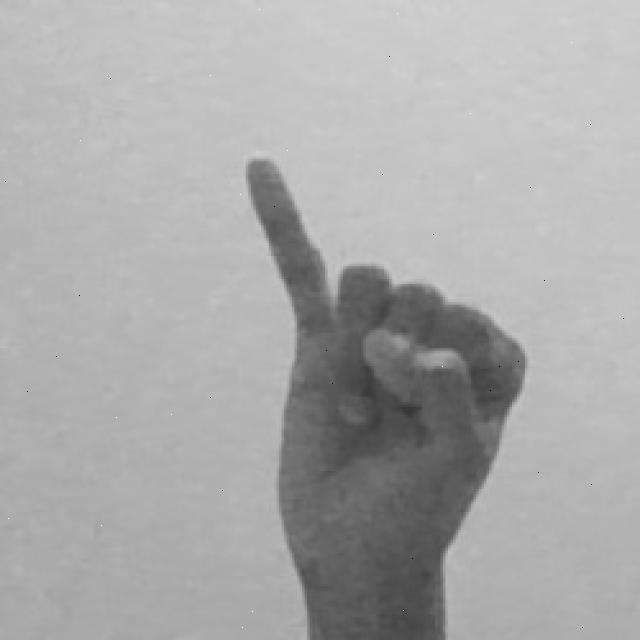I: (231, 145, 550, 640)
